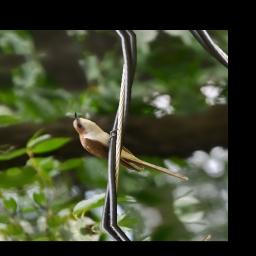Cuckoo: (67, 95, 192, 201)
